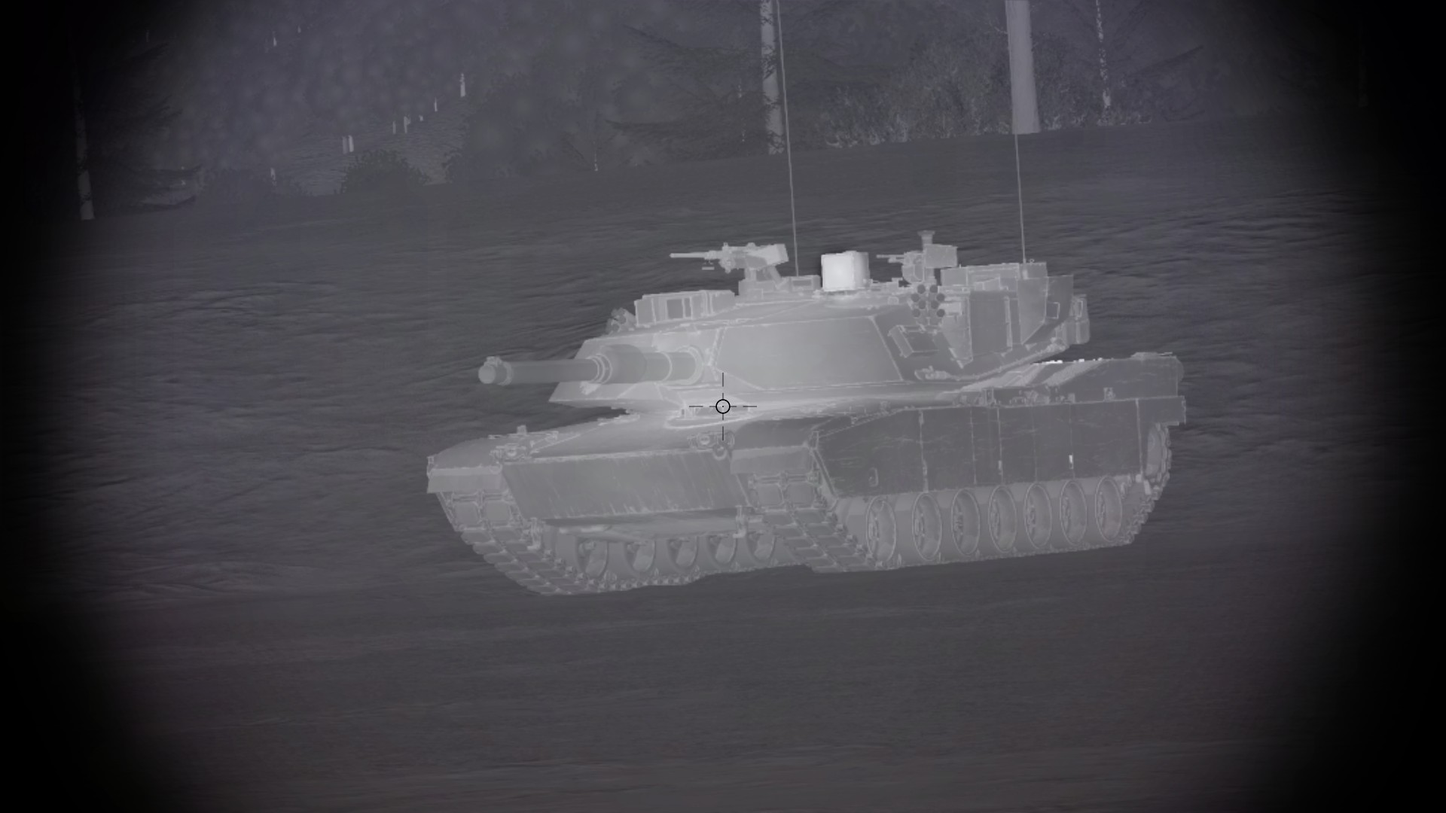abrams: (424, 231, 1189, 598)
